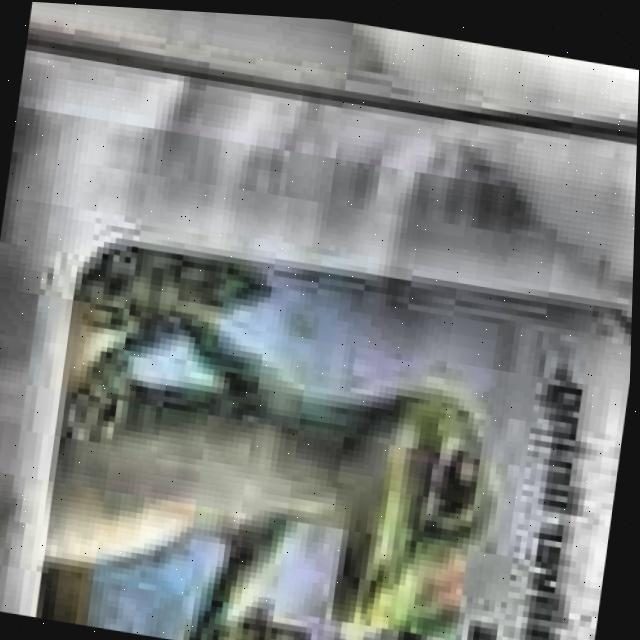paper: (0, 38, 638, 640)
